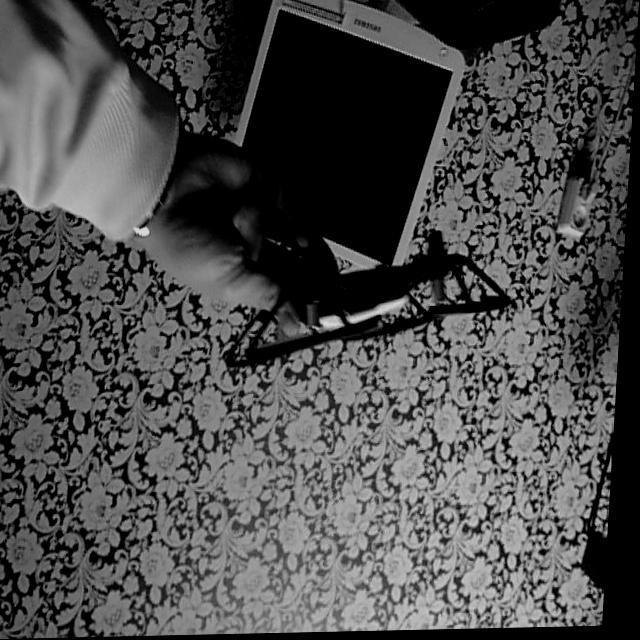drone: (209, 189, 526, 406)
